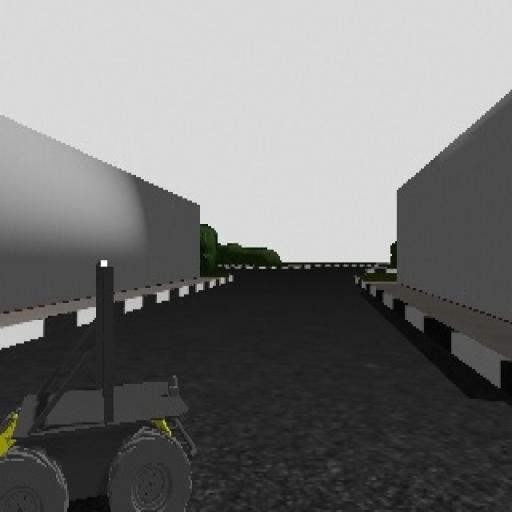huskya200: (2, 233, 216, 512)
